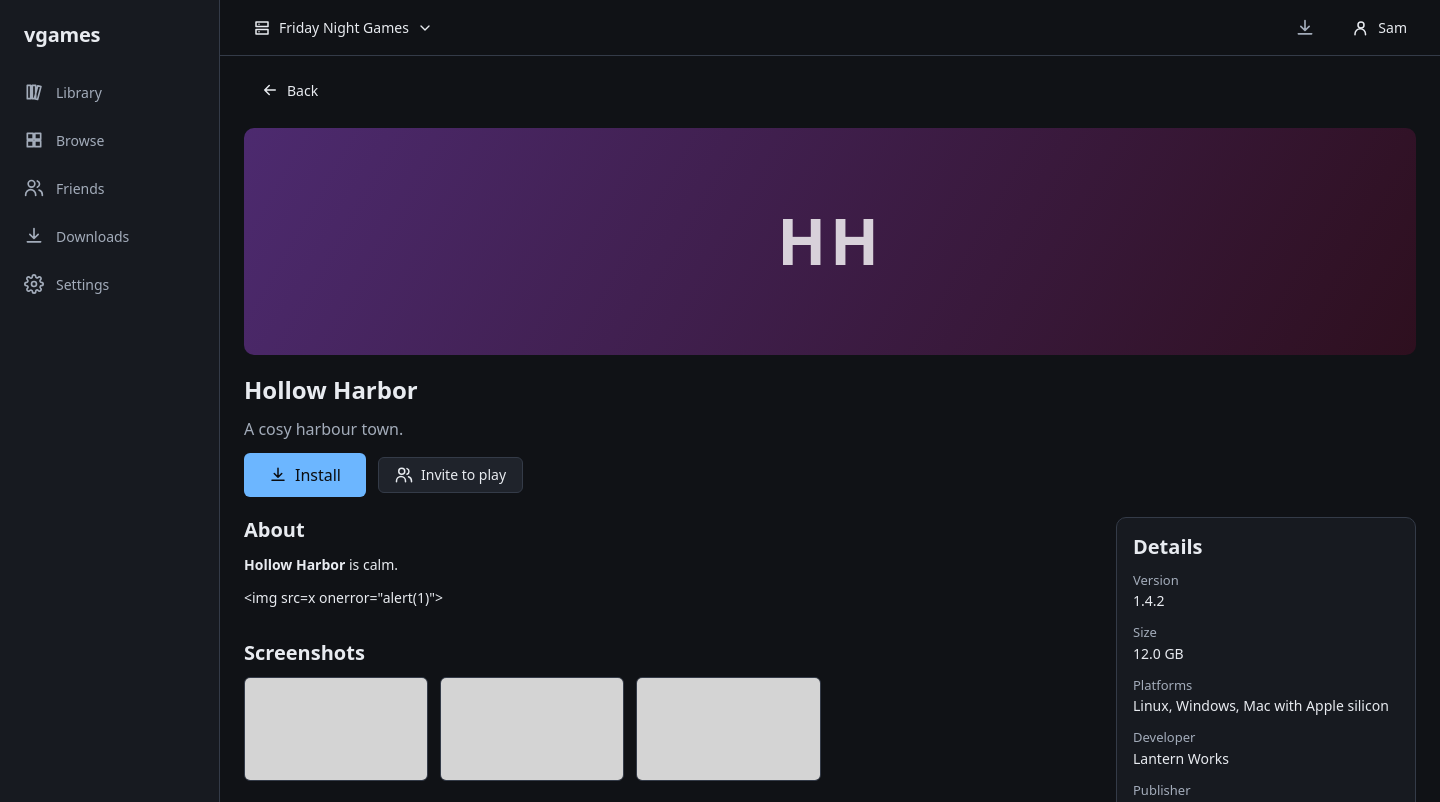
Test: package details › no release for this platform › explains it when the release went away after the page loaded
Click the button with aria-label "Install Hollow Harbor": (305, 475) [244,453,366,497]
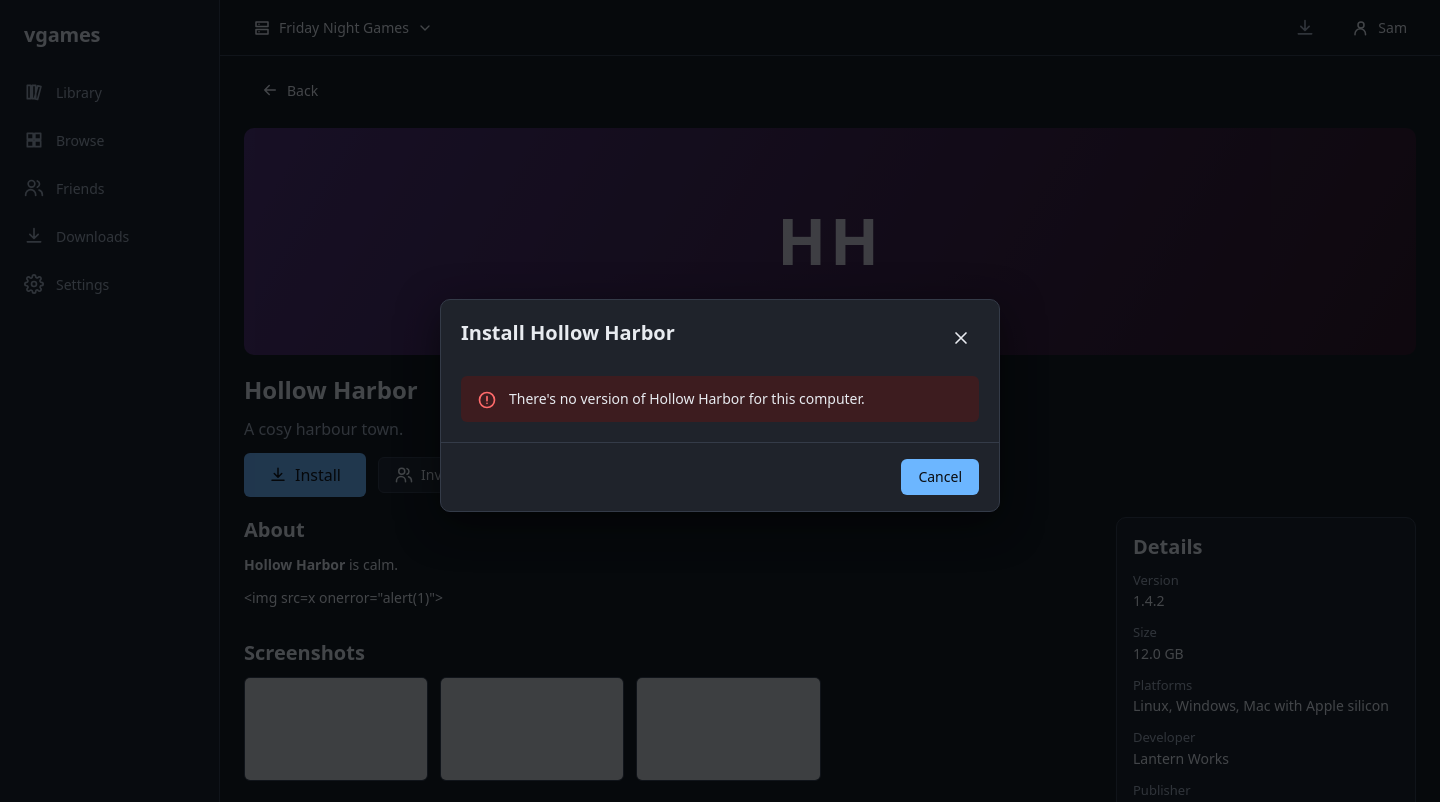
Expected: the text "There's no version of Hollow Harbor for this computer." is shown, [509,388,865,408]
Expected: the button "Cancel" is shown, [901,458,979,494]
